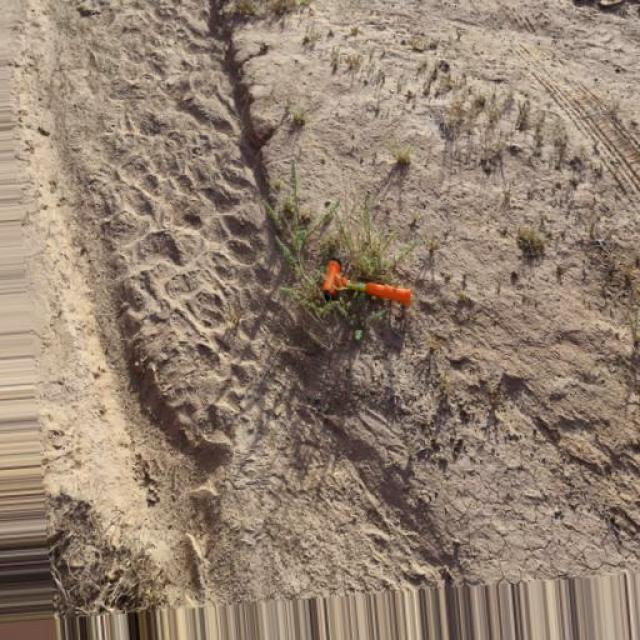mallet: (323, 258, 415, 308)
